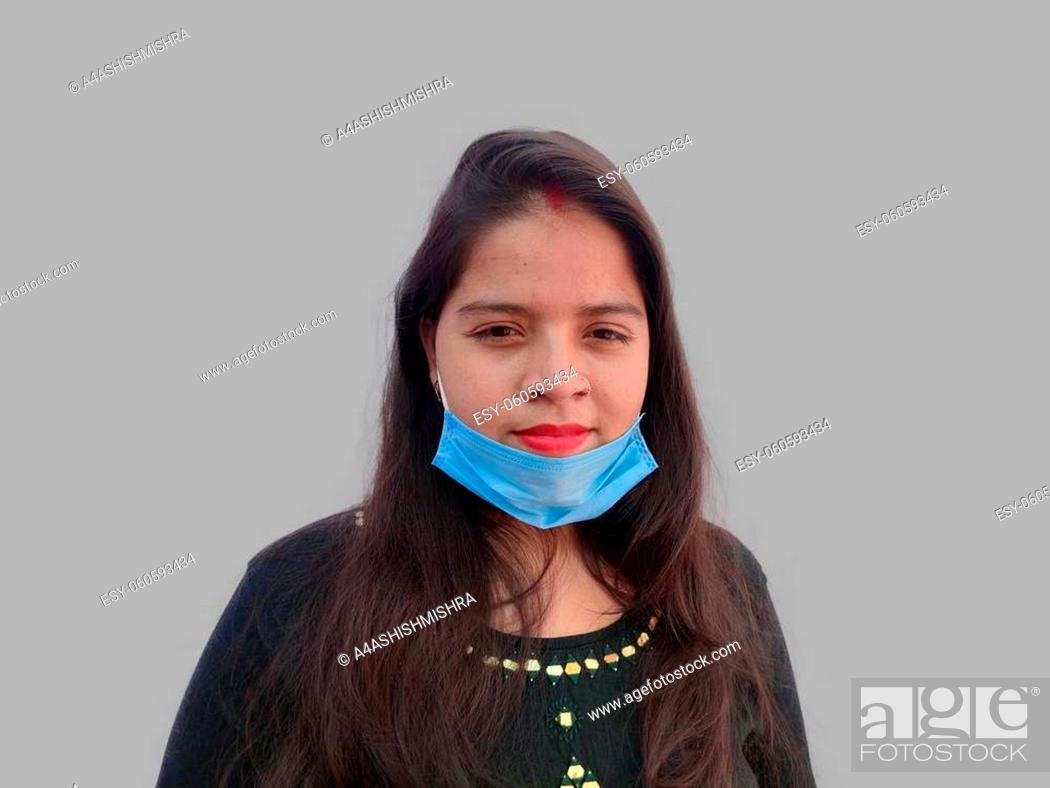mask_weared_incorrect: (427, 157, 694, 533)
